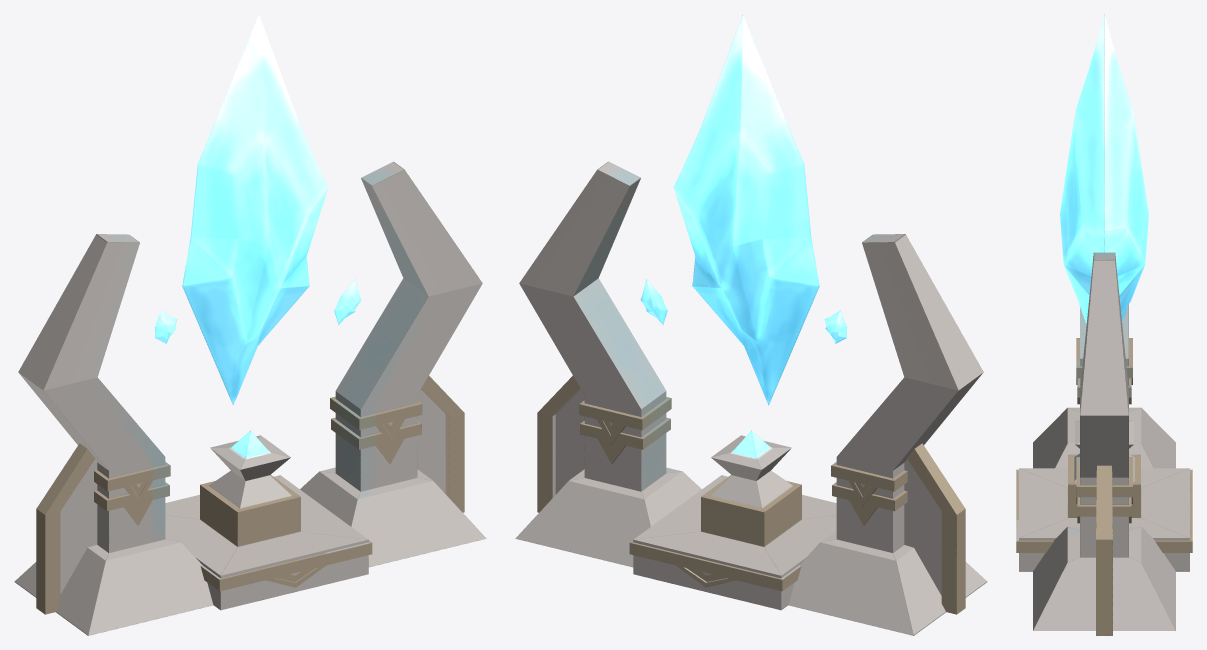
The model's file is crystal.fbx.
3 renders of one model, left to right at view 1: azimuth 30°, elevation 25°; view 2: azimuth 150°, elevation 25°; view 3: azimuth 270°, elevation 25°, orthographic. The views are drawn at different scales.
Visible parts, largest first — view 1: Cube, Cube.002, Cube.001; view 2: Cube, Cube.002, Cube.001; view 3: Cube, Cube.002, Cube.001.
Part boxes in pixels (x1=…): Cube: x1=14, y1=161, x2=486, y2=635; Cube.002: x1=155, y1=14, x2=361, y2=405; Cube.001: x1=165, y1=430, x2=372, y2=610; Cube: x1=515, y1=161, x2=987, y2=635; Cube.002: x1=640, y1=14, x2=846, y2=405; Cube.001: x1=629, y1=430, x2=836, y2=610; Cube: x1=1033, y1=252, x2=1175, y2=635; Cube.002: x1=1060, y1=14, x2=1148, y2=324; Cube.001: x1=1016, y1=420, x2=1192, y2=571.
Size of the model in its own units: 387 by 458 by 139.
Materials: 1 (1 with a texture image).
